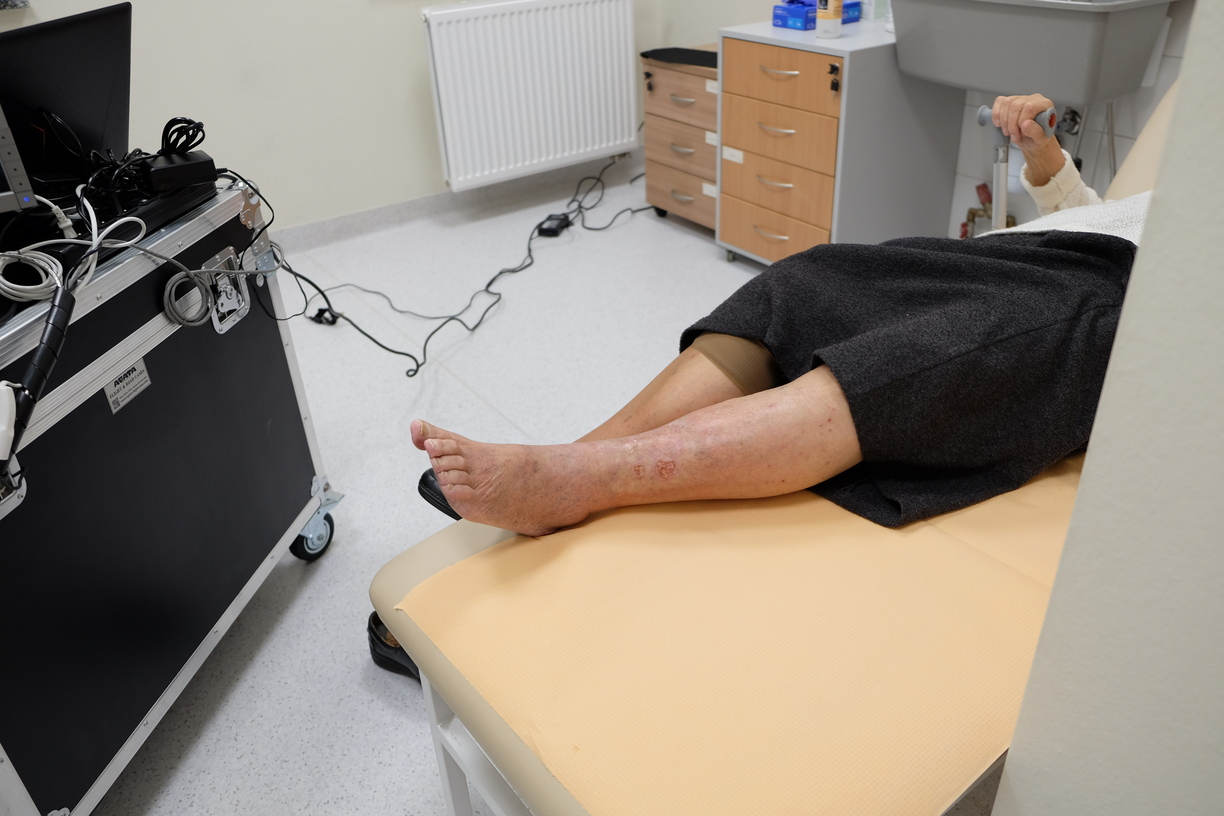wound: (653, 455, 680, 482), (631, 461, 647, 480)
